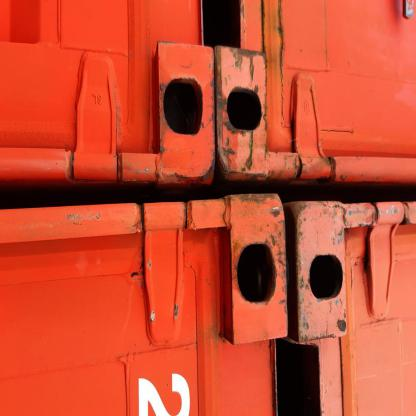CornerCasting: (218, 190, 290, 348), (153, 40, 216, 192), (288, 199, 352, 345), (214, 46, 272, 186)
